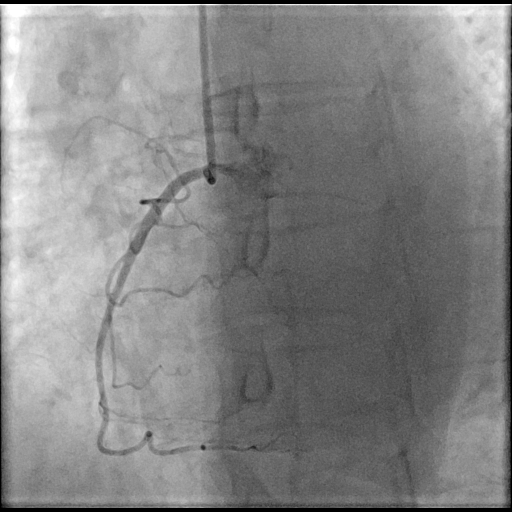RCA: (96, 168, 203, 455)
catherter: (199, 6, 216, 185)
